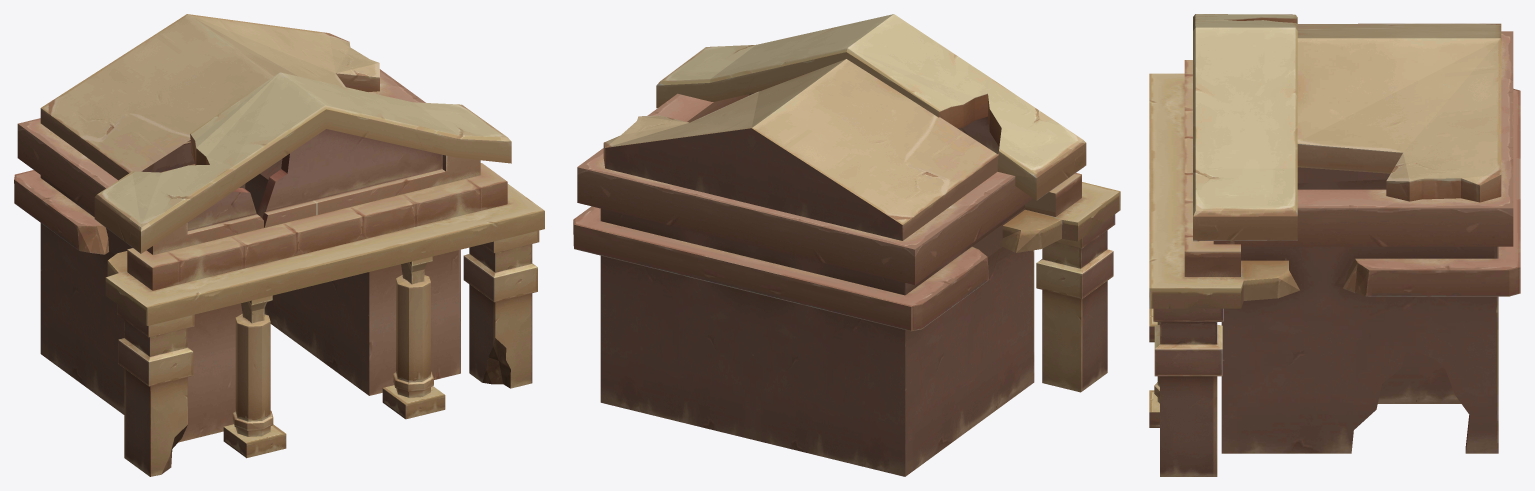
The model's file is YiJi_jianzhu_01.fbx.
The picture shows the model from 3 angles, left to right: view 1: azimuth 30°, elevation 25°; view 2: azimuth 150°, elevation 25°; view 3: azimuth 270°, elevation 25°; orthographic projection. The views are drawn at different scales.
Visible parts, largest first — view 1: YiJi_jianzhu_01; view 2: YiJi_jianzhu_01; view 3: YiJi_jianzhu_01.
Boxes of the visible parts, <box> form: YiJi_jianzhu_01: <box>14,14,544,476</box>; YiJi_jianzhu_01: <box>573,14,1120,476</box>; YiJi_jianzhu_01: <box>1149,14,1520,476</box>.
Size of the model in its own units: 14.69 by 11.06 by 10.73.
